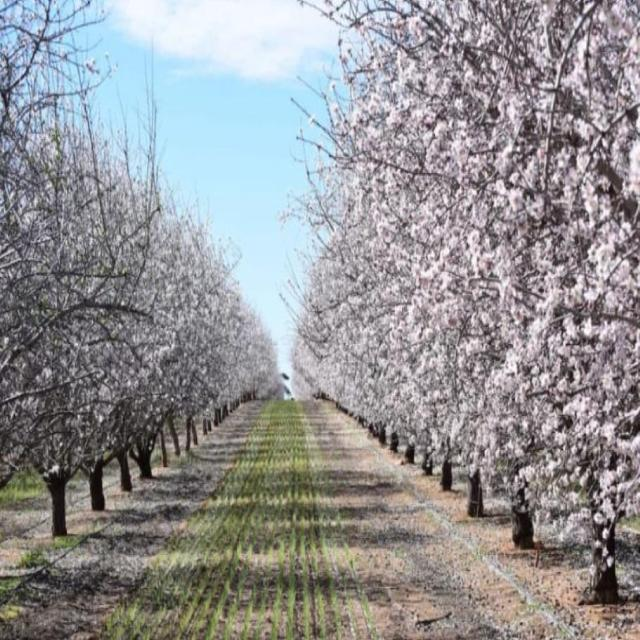row: (36, 392, 594, 640)
